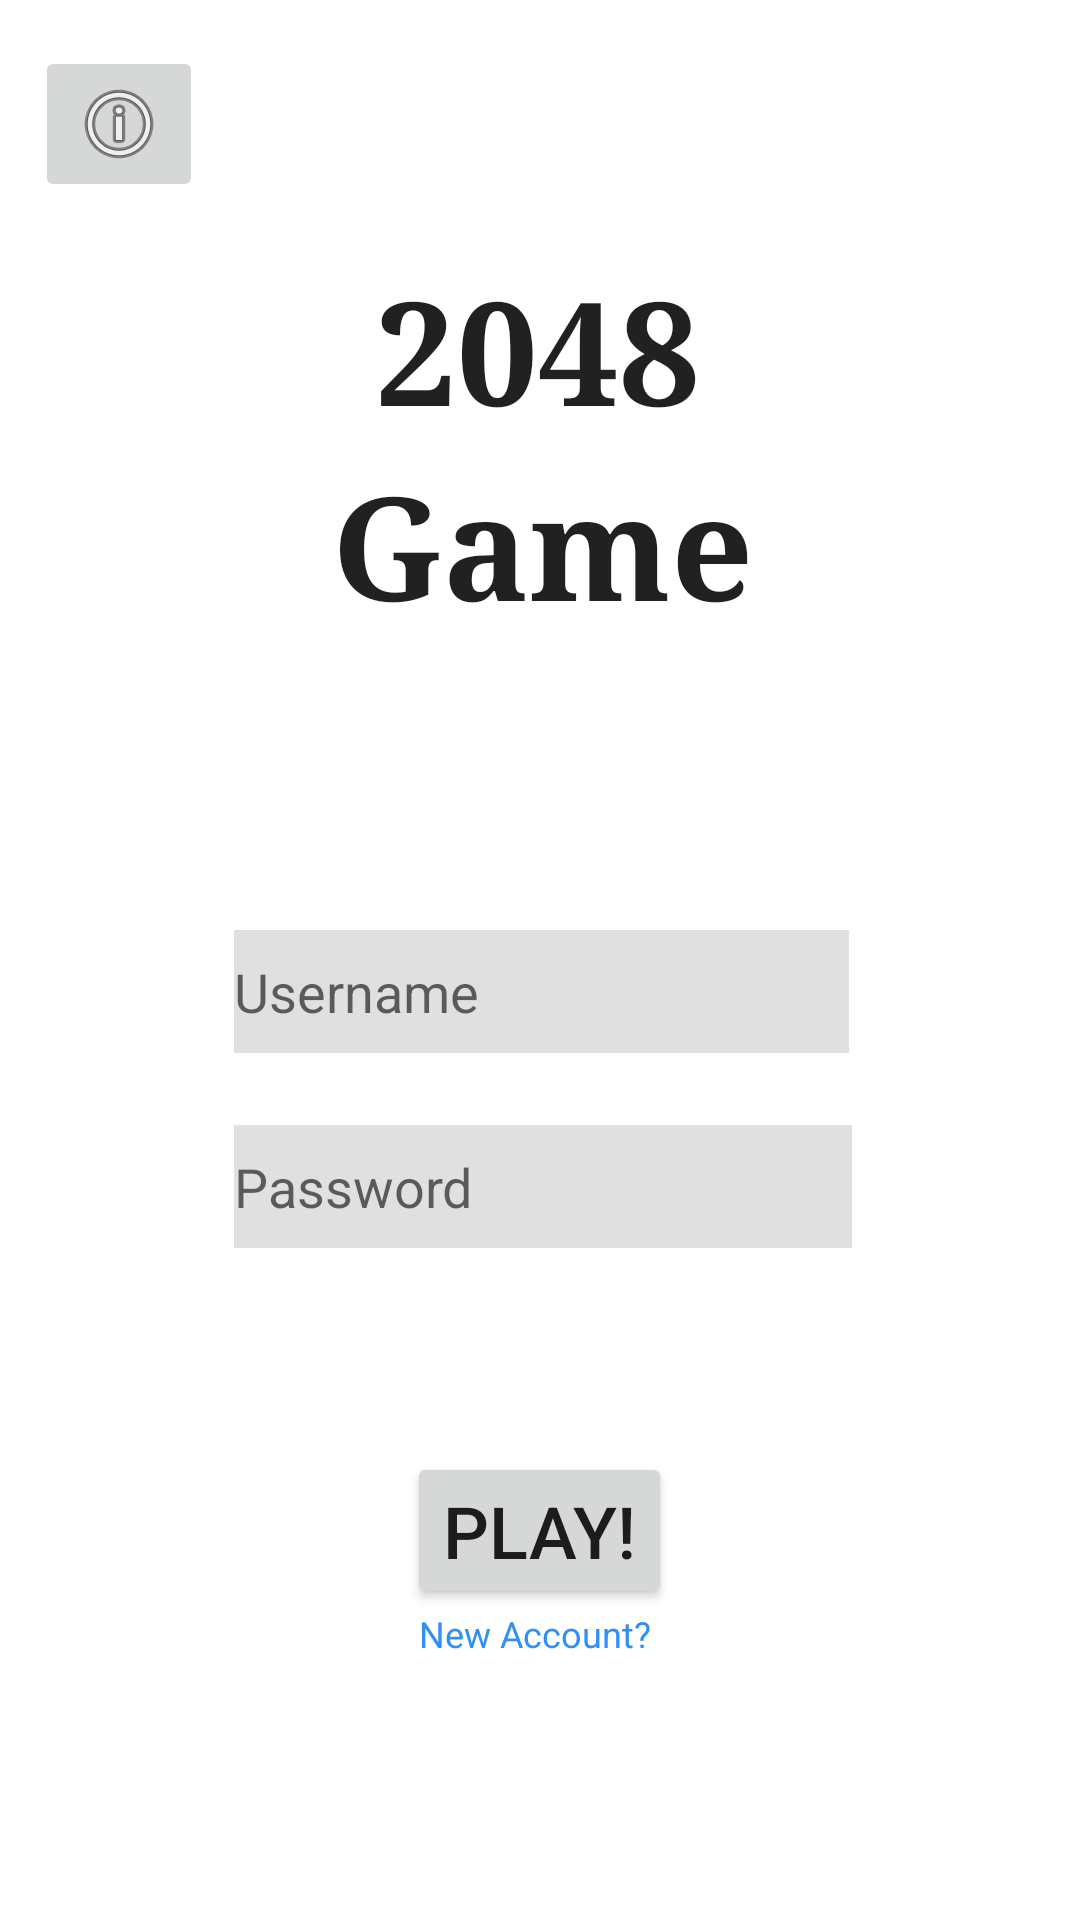

Locate icon controls on the screen. Image size 1080×1920, boxes as (x1, y1, x2, y2).
info details: (47, 64, 191, 184)
